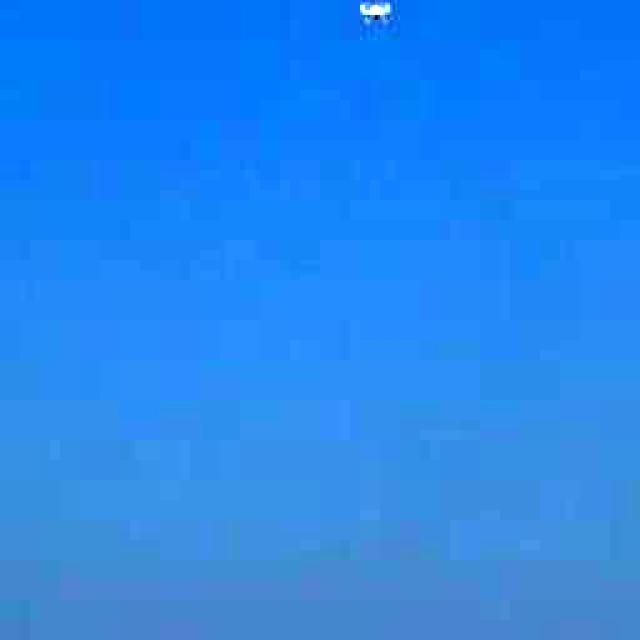bird: (344, 0, 404, 41)
